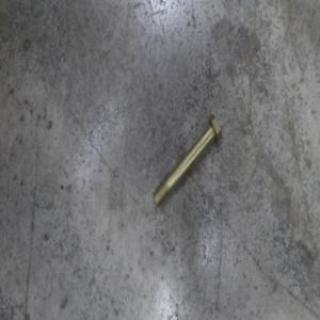Bolttrack_idkeyframe: (151, 112, 222, 210)
